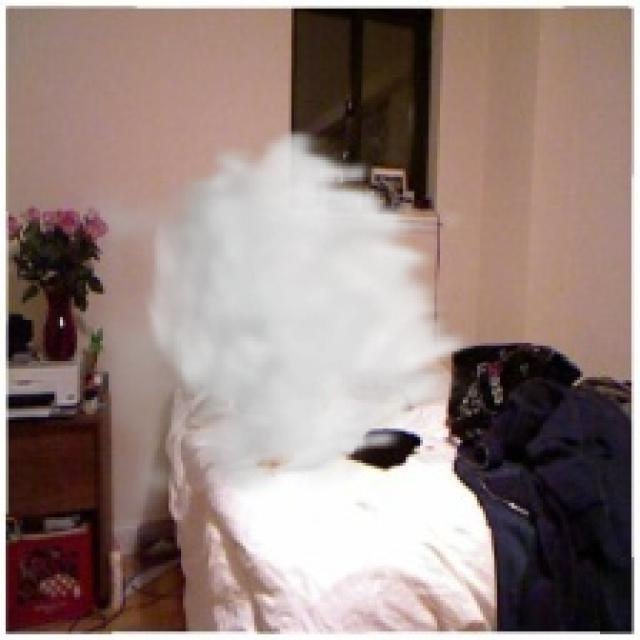Smoke: (66, 126, 477, 552)
